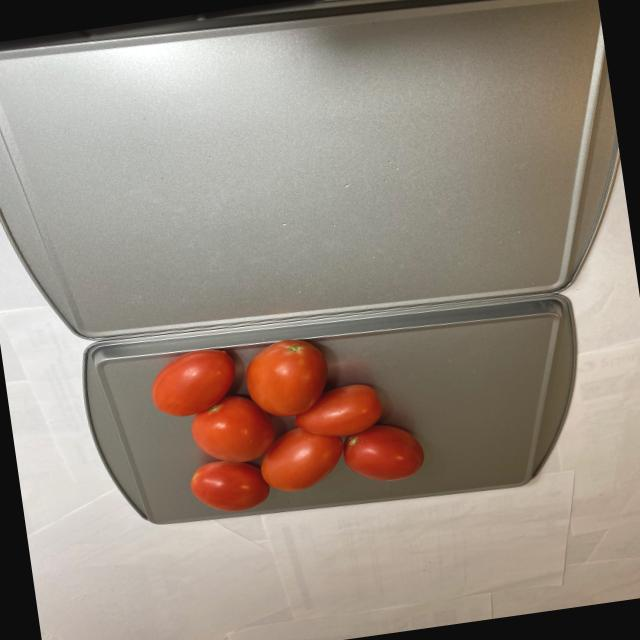tomato: (142, 319, 428, 521)
